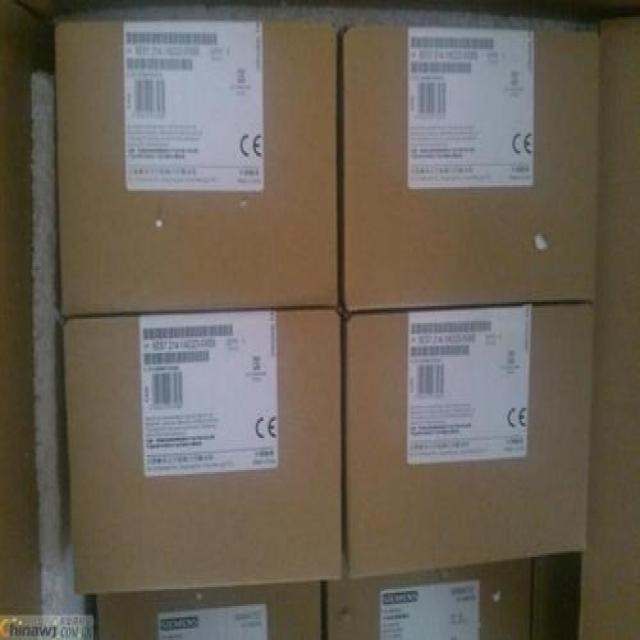box: (55, 25, 338, 317), (63, 310, 342, 595), (342, 23, 599, 312), (344, 304, 595, 581), (328, 561, 532, 640), (96, 583, 321, 640)
